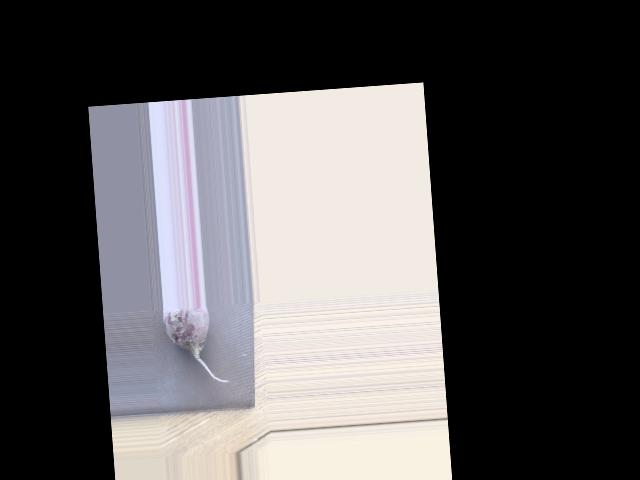beet: (162, 305, 229, 387)
